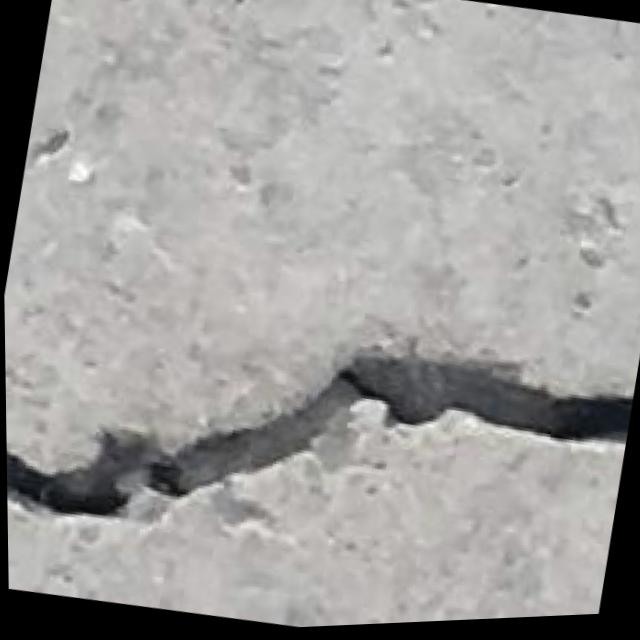Crack: (3, 249, 640, 640)
